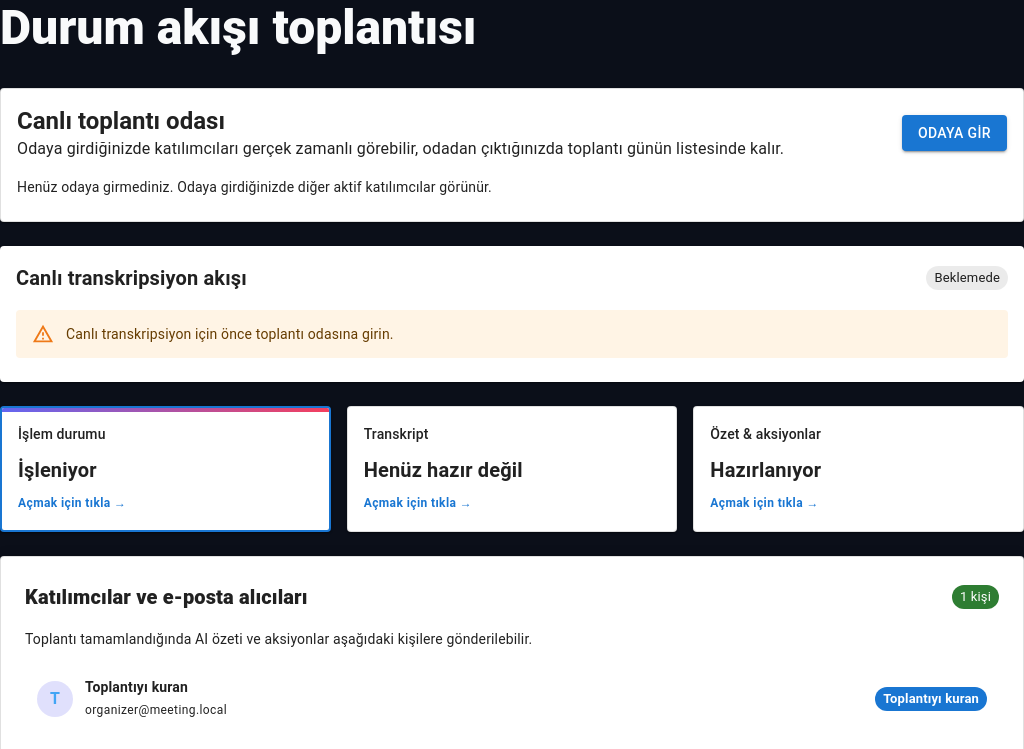
Scenario: MeetingDetailPage işlem durumu › processing durumunu ilerleme mesajıyla gösterir
Click the button "İşlem durumu İşleniyor Açmak için tıkla →" at {"x": 62, "y": 434}, box [2, 408, 329, 530]
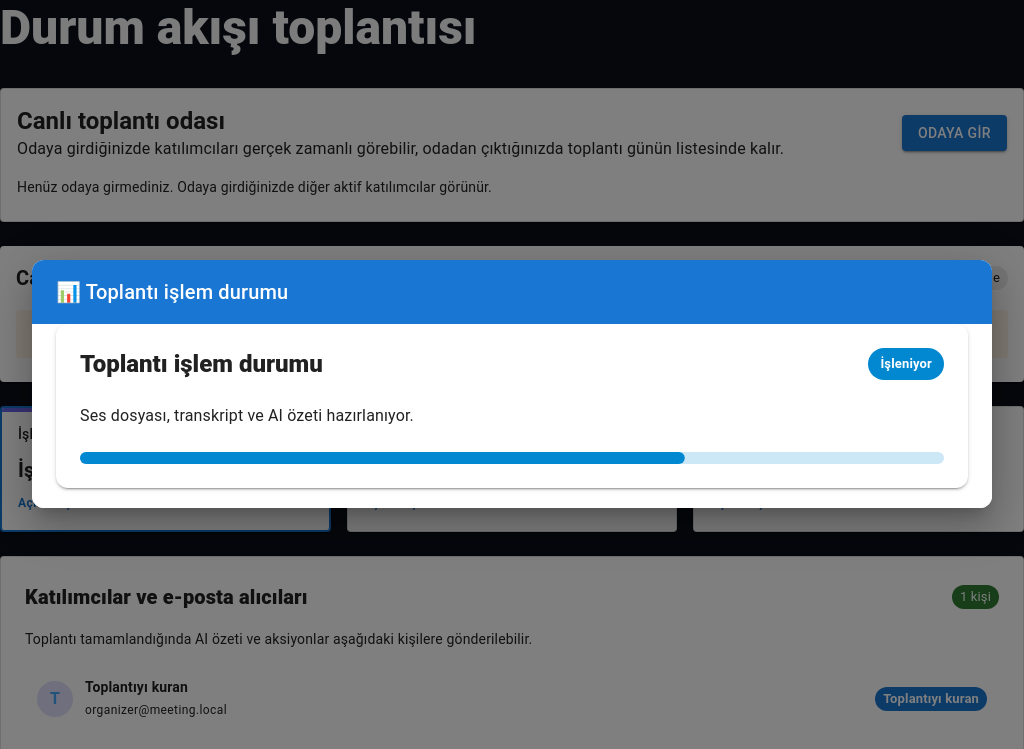
Check: the heading "İşleniyor" is shown, box [18, 458, 97, 482]
Check: the text "Ses dosyası, transkript ve AI özeti hazırlanıyor." is shown, box [80, 406, 414, 425]
